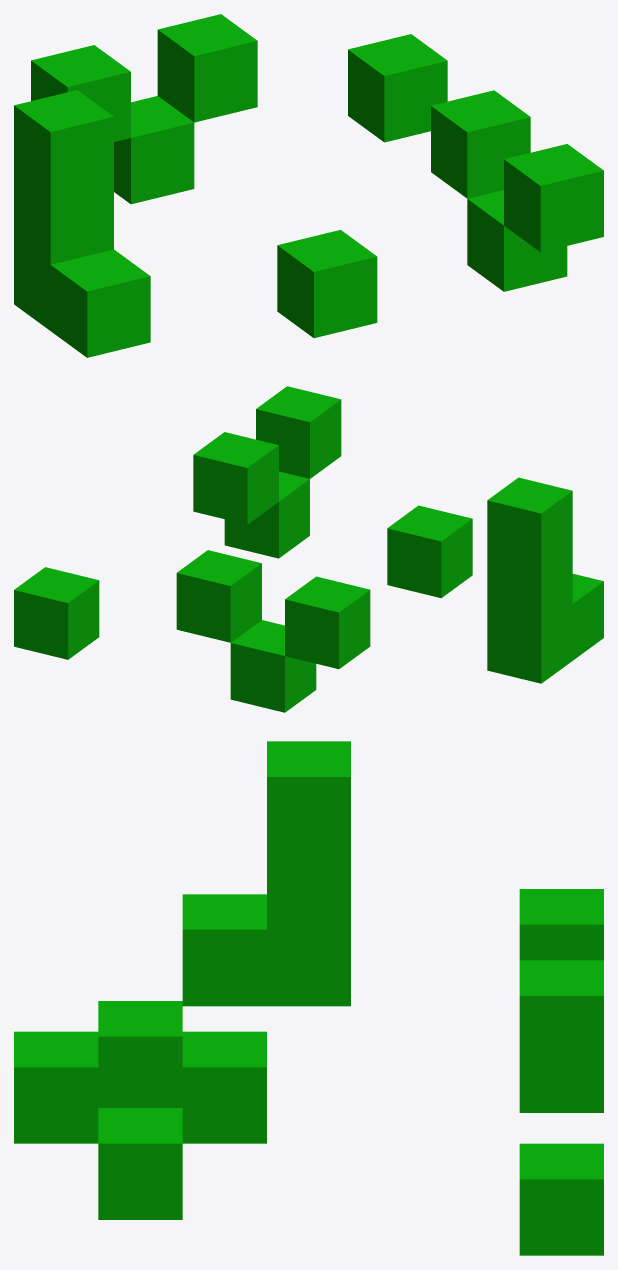
The model's file is grass_scnd.obj.
3 renders of one model, top to bottom at view 1: azimuth 30°, elevation 25°; view 2: azimuth 150°, elevation 25°; view 3: azimuth 270°, elevation 25°, orthographic. The views are drawn at different scales.
Parts seen in each view (by area): view 1: grass_scnd; view 2: grass_scnd; view 3: grass_scnd.
Part boxes in pixels (box(x1,y1,x2,y2)): grass_scnd: box(14, 14, 603, 357); grass_scnd: box(14, 386, 603, 712); grass_scnd: box(14, 741, 603, 1255).
Size of the model in its own units: 8 by 3 by 7.
1 material, 1 textured.
